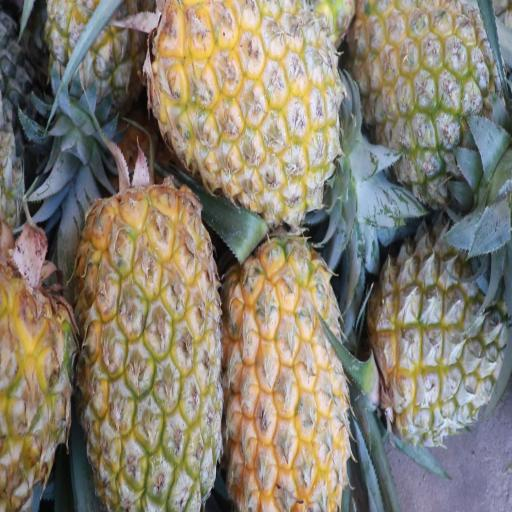------------------------------: (370, 223, 511, 441), (41, 0, 146, 161)
Pineapple - v8 v1: (82, 187, 222, 512), (154, 0, 341, 212), (221, 241, 343, 512), (358, 0, 497, 187)
